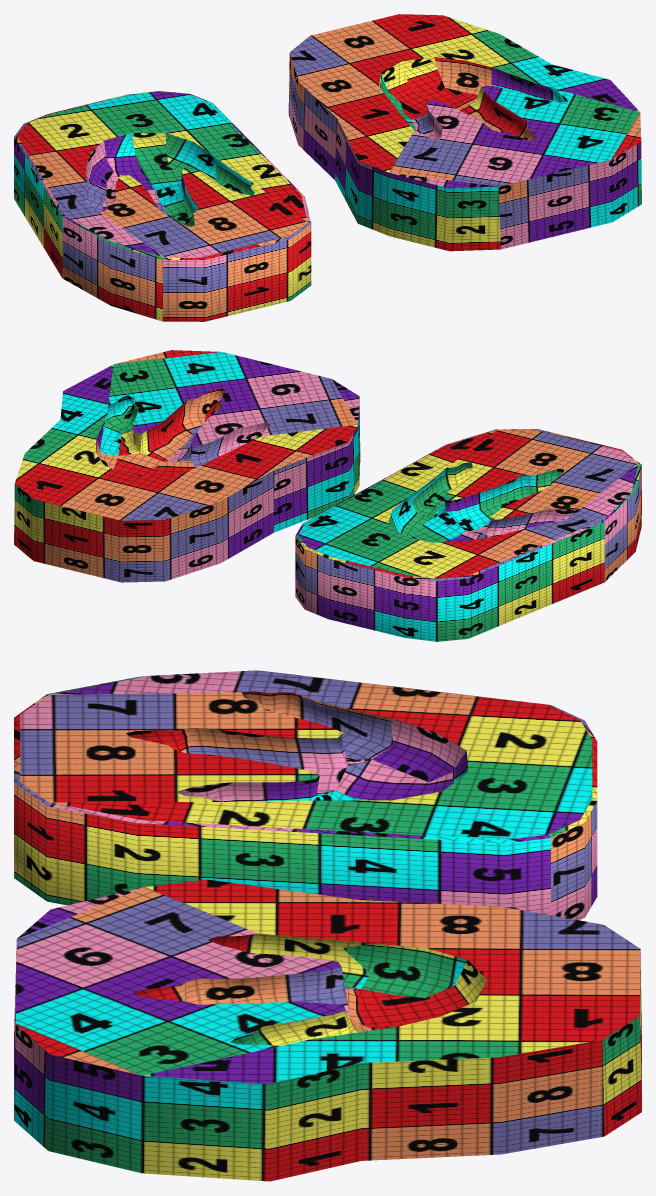
Rendered from Footprints.fbx.
3 views of the same model, one above another, from view 1: azimuth 30°, elevation 25°; view 2: azimuth 150°, elevation 25°; view 3: azimuth 270°, elevation 25° (orthographic). The views are drawn at different scales.
Visible parts, largest first — view 1: LeftFoot, RightFoot; view 2: LeftFoot, RightFoot; view 3: LeftFoot, RightFoot.
Boxes of the visible parts, x1,y1,x2,y2 form: LeftFoot: [288, 14, 641, 251]; RightFoot: [14, 91, 311, 321]; LeftFoot: [14, 350, 360, 582]; RightFoot: [295, 429, 641, 641]; LeftFoot: [14, 879, 641, 1181]; RightFoot: [14, 670, 597, 920].
Size of the model in its own units: 24.79 by 2.7 by 15.84.
